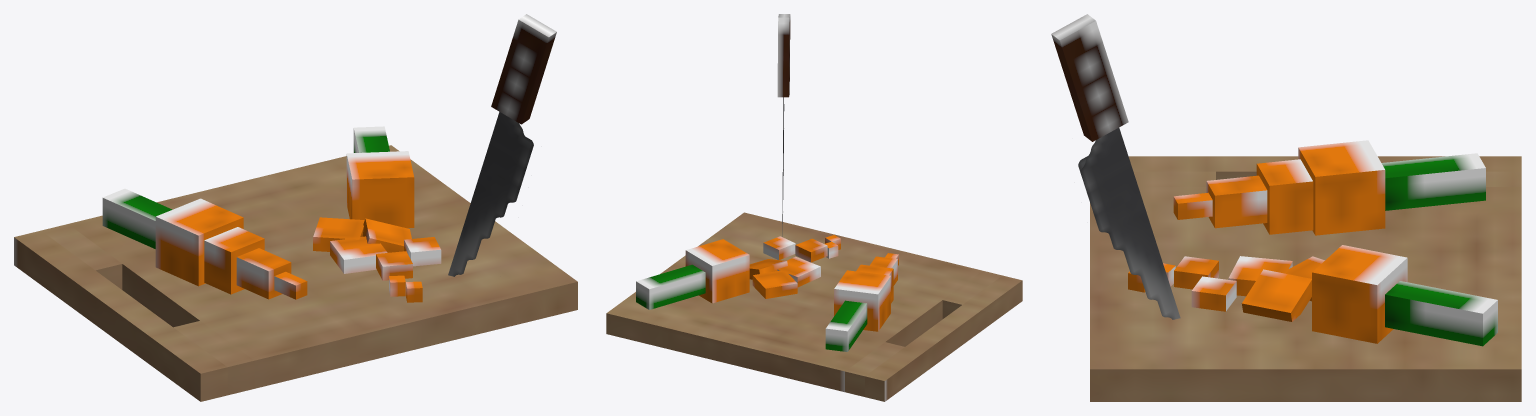
File: cutting_board.obj
3 renders of one model, left to right at view 1: azimuth 30°, elevation 25°; view 2: azimuth 150°, elevation 25°; view 3: azimuth 270°, elevation 25°, orthographic. The views are drawn at different scales.
Visible parts, largest first — view 1: Board, Boardb, Blade, CarrotA, CarrotB, Handle, Carrotb4, Carrotb1, Boardc, Carrotb2, Boardd, Carrot1c (+6 smaller); view 2: Board, Boardb, CarrotA, CarrotB, Carrot4, Carrotb4, Boardd, Handle, Boardc, Carrot1a, Carrot1c, Carrot2b (+2 smaller); view 3: Board, Blade, CarrotA, CarrotB, Handle, Carrot4, Carrotb4, Carrotb1, Boardb, Carrotb2, Carrot1b, Carrot2b (+6 smaller).
Boxes of the visible parts, x1=… form: Board: x1=68, y1=145, x2=577, y2=388; Boardb: x1=14, y1=230, x2=227, y2=401; Blade: x1=448, y1=112, x2=533, y2=276; CarrotA: x1=346, y1=151, x2=414, y2=228; CarrotB: x1=155, y1=198, x2=243, y2=286; Handle: x1=491, y1=14, x2=556, y2=124; Carrotb4: x1=102, y1=188, x2=172, y2=248; Carrotb1: x1=204, y1=227, x2=264, y2=294; Boardc: x1=173, y1=321, x2=254, y2=395; Carrotb2: x1=236, y1=248, x2=291, y2=299; Boardd: x1=41, y1=224, x2=122, y2=289; Carrot1c: x1=330, y1=236, x2=387, y2=273; Board: x1=606, y1=212, x2=982, y2=392; Boardb: x1=865, y1=275, x2=1022, y2=401; CarrotA: x1=685, y1=239, x2=749, y2=303; CarrotB: x1=834, y1=270, x2=890, y2=331; Carrot4: x1=636, y1=264, x2=705, y2=309; Carrotb4: x1=825, y1=300, x2=867, y2=351; Boardd: x1=845, y1=342, x2=904, y2=396; Handle: x1=777, y1=14, x2=790, y2=97; Boardc: x1=942, y1=271, x2=1002, y2=318; Carrot1a: x1=752, y1=270, x2=797, y2=298; Carrot1c: x1=777, y1=256, x2=820, y2=287; Carrot2b: x1=763, y1=236, x2=795, y2=259; Board: x1=1090, y1=187, x2=1521, y2=401; Blade: x1=1078, y1=127, x2=1180, y2=319; CarrotA: x1=1312, y1=245, x2=1407, y2=343; CarrotB: x1=1298, y1=140, x2=1385, y2=235; Handle: x1=1051, y1=14, x2=1128, y2=141; Carrot4: x1=1385, y1=281, x2=1497, y2=346; Carrotb4: x1=1381, y1=153, x2=1485, y2=210; Carrotb1: x1=1256, y1=159, x2=1313, y2=234; Boardb: x1=1128, y1=156, x2=1521, y2=179; Carrotb2: x1=1206, y1=175, x2=1267, y2=228; Carrot1b: x1=1241, y1=269, x2=1311, y2=321; Carrot2b: x1=1191, y1=276, x2=1236, y2=311.
Bounding box in the file's own units: 1.75 × 1.36 × 1.63.
